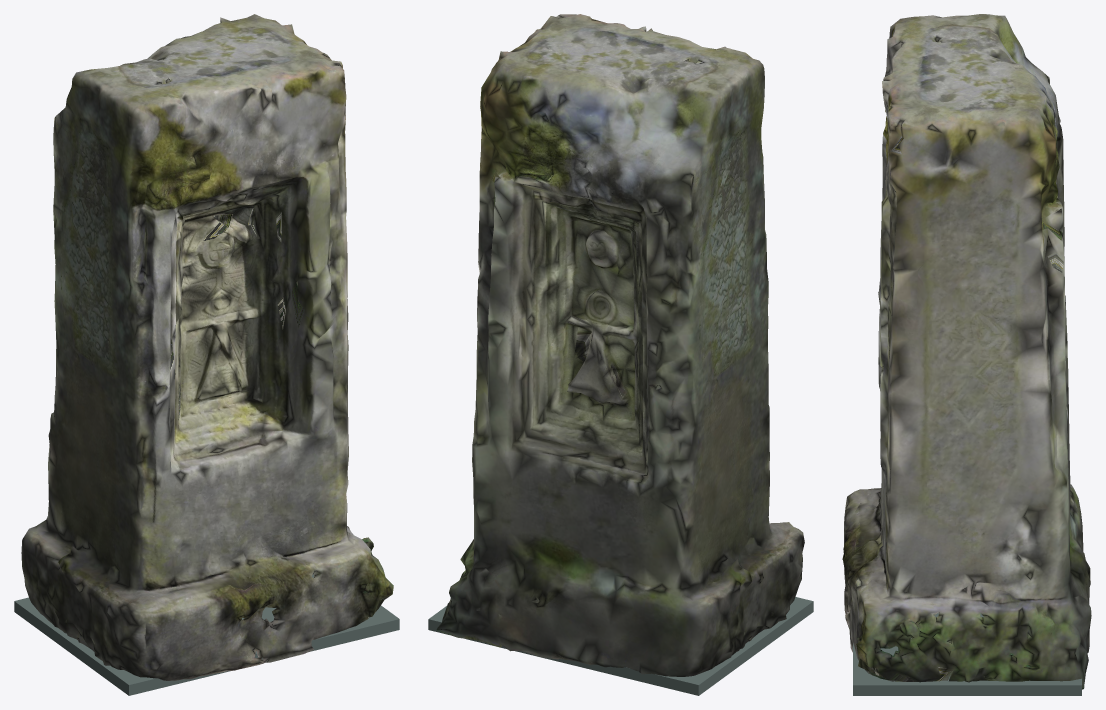
The model's file is tanit.fbx.
3 renders of one model, left to right at view 1: azimuth 30°, elevation 25°; view 2: azimuth 150°, elevation 25°; view 3: azimuth 270°, elevation 25°, orthographic.
Visible parts, largest first — view 1: Cube; view 2: Cube; view 3: Cube.
Boxes of the visible parts, x1,y1,x2,y2 form: Cube: (14,14,399,695); Cube: (428,14,813,695); Cube: (842,14,1091,695).
Size of the model in its own units: 102 by 200 by 80.17.
Materials: 2 (1 with a texture image).
